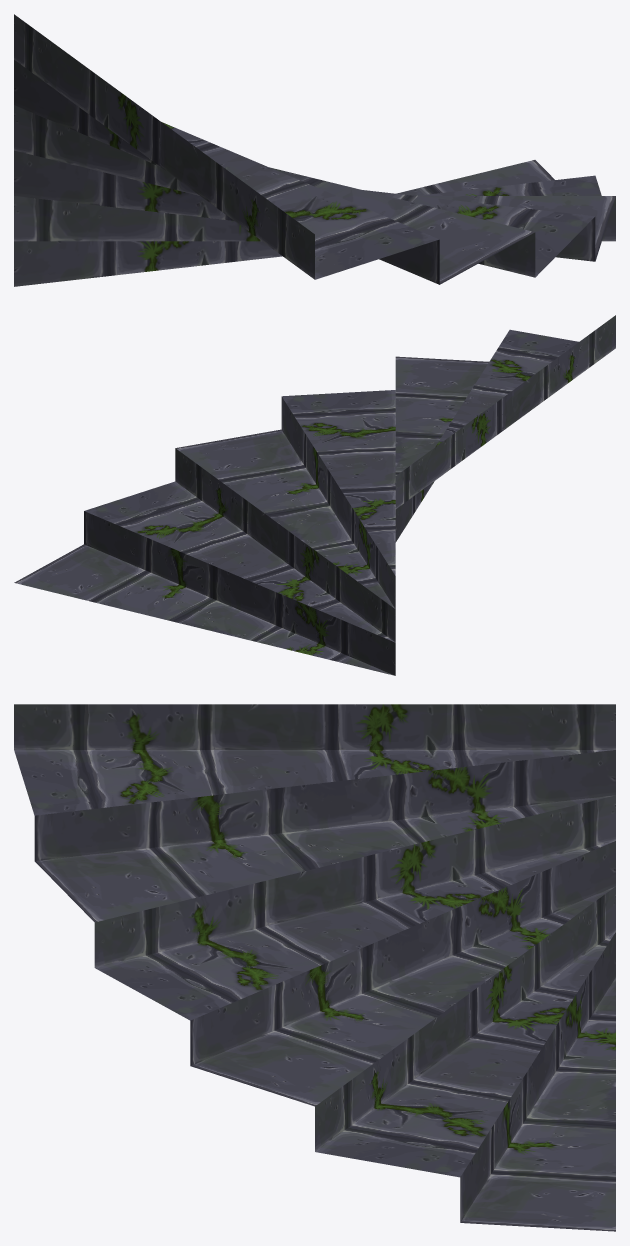
File: MOD_Stairs_01_E_med_NW_BotCap.fbx
3 views of the same model, one above another, from view 1: azimuth 30°, elevation 25°; view 2: azimuth 150°, elevation 25°; view 3: azimuth 270°, elevation 25° (orthographic). The views are drawn at different scales.
Visible parts, largest first — view 1: MOD_Stairs_01_E_med_NW_BotCap; view 2: MOD_Stairs_01_E_med_NW_BotCap; view 3: MOD_Stairs_01_E_med_NW_BotCap.
Boxes of the visible parts, <box> form: MOD_Stairs_01_E_med_NW_BotCap: <box>14,14,615,286</box>; MOD_Stairs_01_E_med_NW_BotCap: <box>14,315,615,675</box>; MOD_Stairs_01_E_med_NW_BotCap: <box>14,704,615,1231</box>.
Size of the model in its own units: 400 by 200 by 400.
